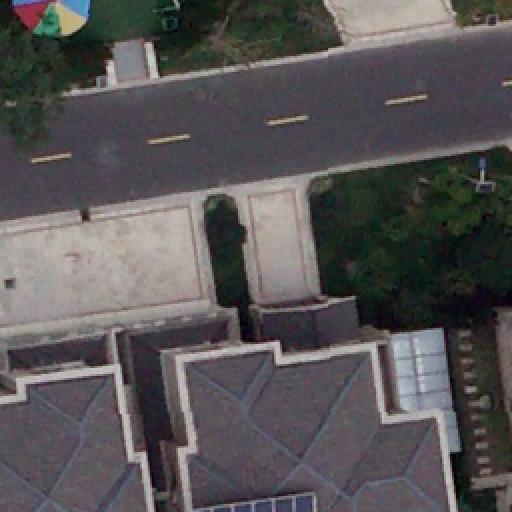solar-panel: (197, 496, 315, 512)
